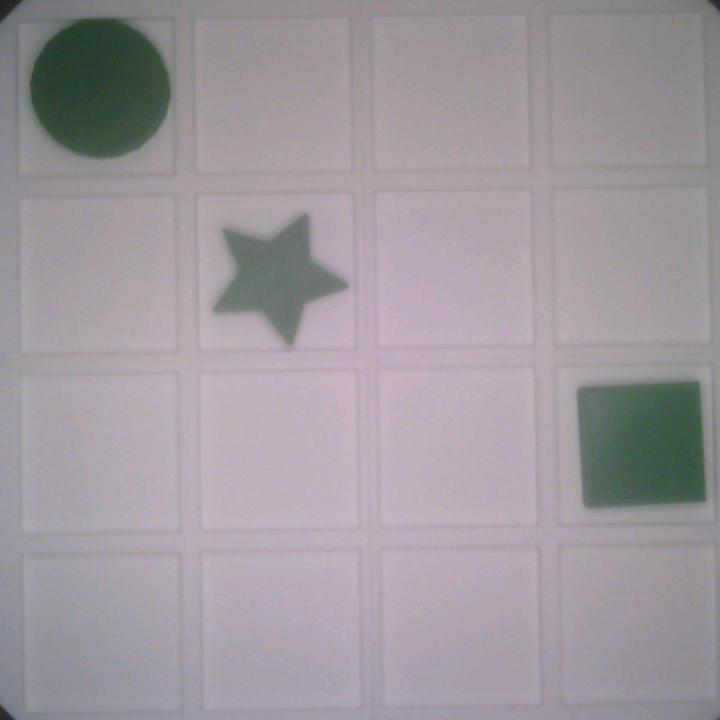Green circle: (27, 19, 174, 162)
Green square: (575, 374, 707, 510)
Green star: (206, 206, 354, 347)
